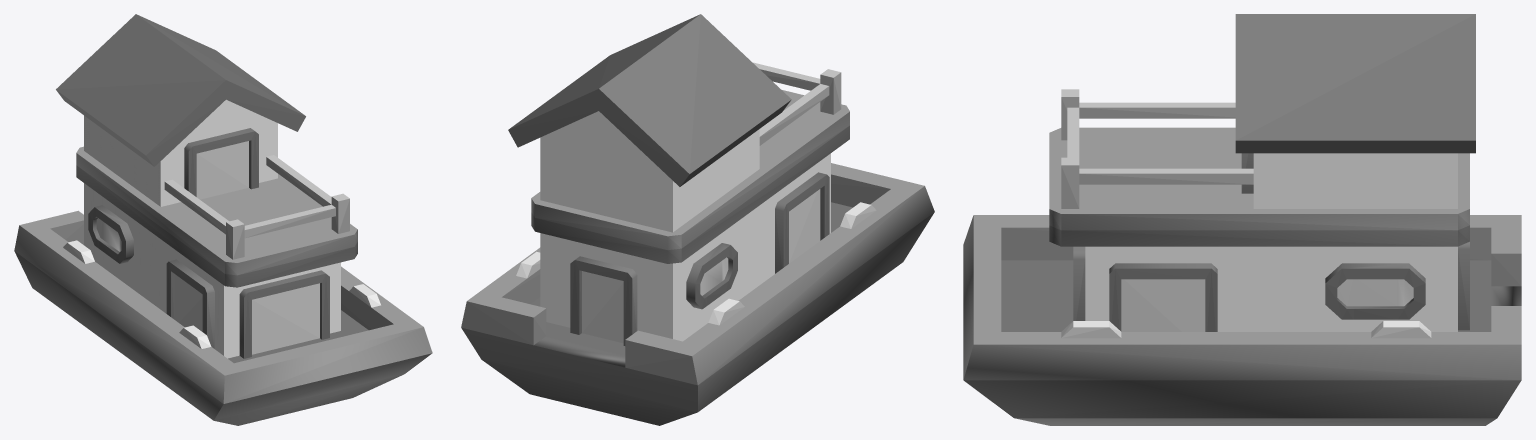
Rendered from gtfc_naval_yard.glb.
3 views of the same model, side by side, from view 1: azimuth 30°, elevation 25°; view 2: azimuth 150°, elevation 25°; view 3: azimuth 270°, elevation 25° (orthographic). The views are drawn at different scales.
Visible parts, largest first — view 1: Body; view 2: Body; view 3: Body.
Part boxes in pixels (x1,y1,x2,y2): Body: (14,14,432,425); Body: (461,14,934,425); Body: (963,14,1521,425).
Size of the model in its own units: 9.22 by 11.85 by 16.
2 materials, 1 textured.
